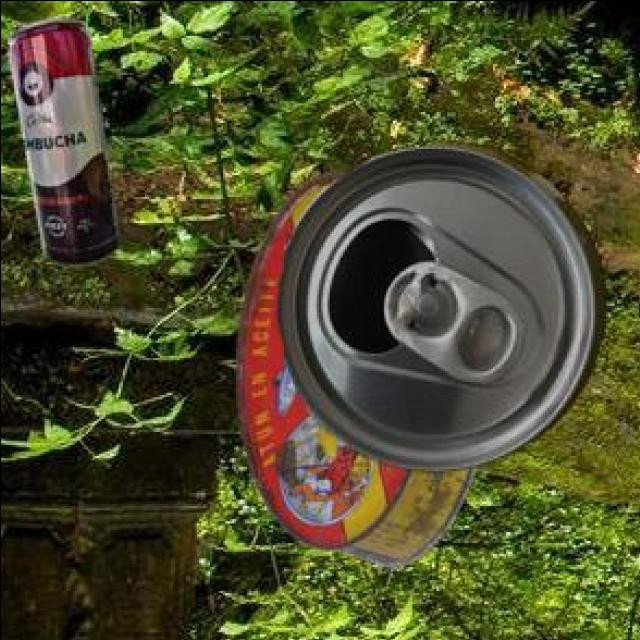logam: (280, 143, 608, 473), (238, 175, 478, 569), (12, 21, 121, 269)
